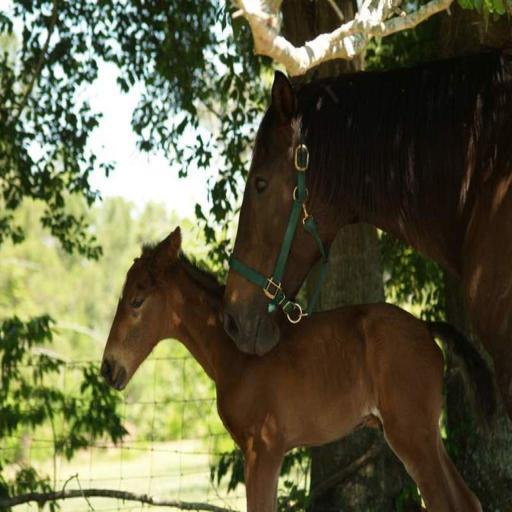horse: (98, 222, 500, 512), (222, 48, 512, 360)
